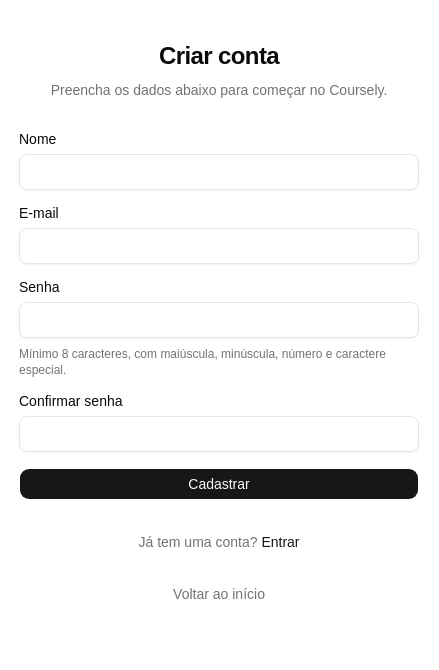
Test: RegisterPage › shows validation errors when fields are empty
Click the button "Cadastrar". click: click(219, 484)
box: [19,468,419,500]
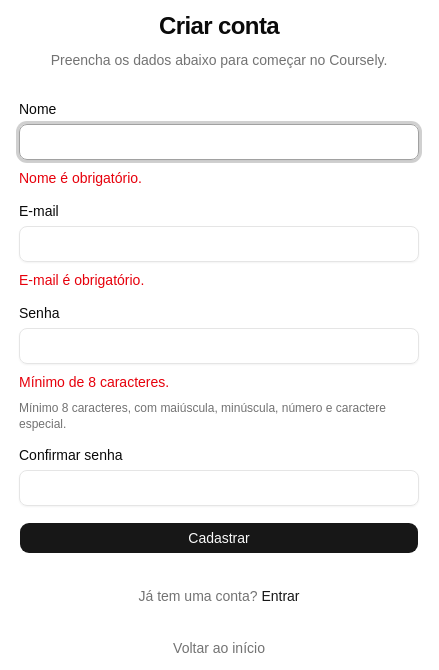
Result: the text "Nome é obrigatório." is shown at [19,170,142,186]
Result: the text "E-mail é obrigatório." is shown at [19,272,144,288]
